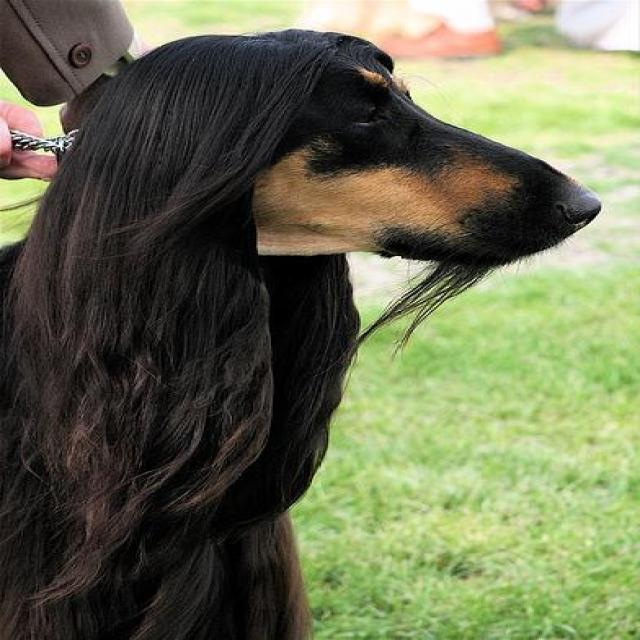afghan_hound: (0, 30, 601, 638)
